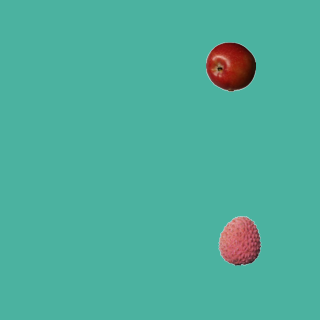Apple Braeburn: (205, 41, 255, 91)
Lychee: (214, 215, 264, 265)
